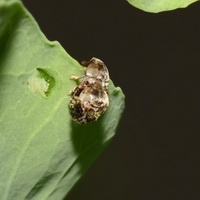insect: (69, 57, 109, 123)
